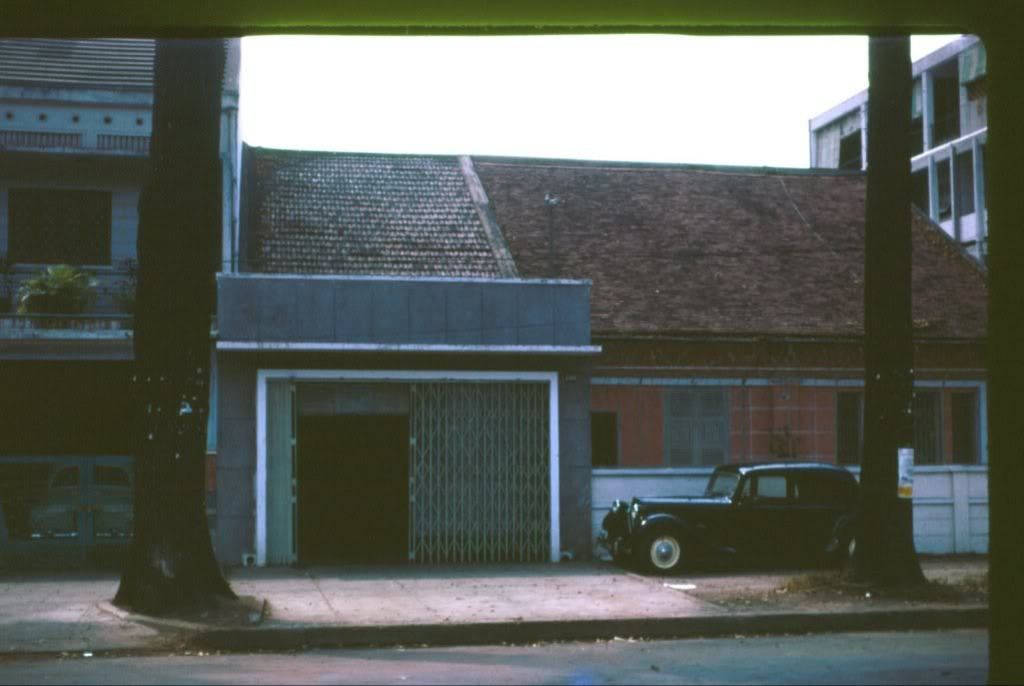cars: (594, 459, 859, 570)
